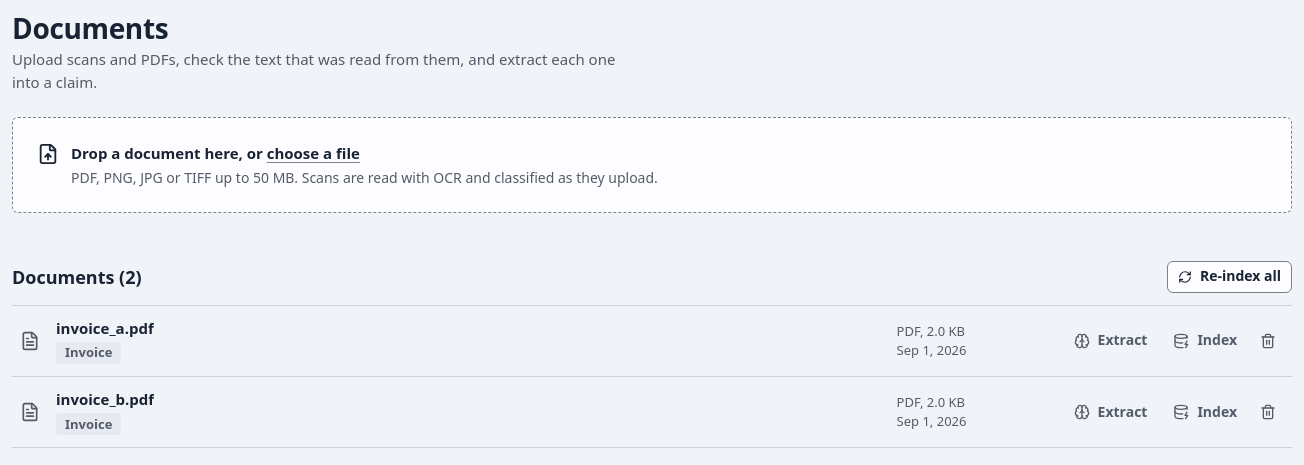
DocumentsPage › keeps a document removed once the delete succeeds
Click the button named "Delete invoice_a.pdf".
click(1268, 341)  # box [1252,325,1284,357]
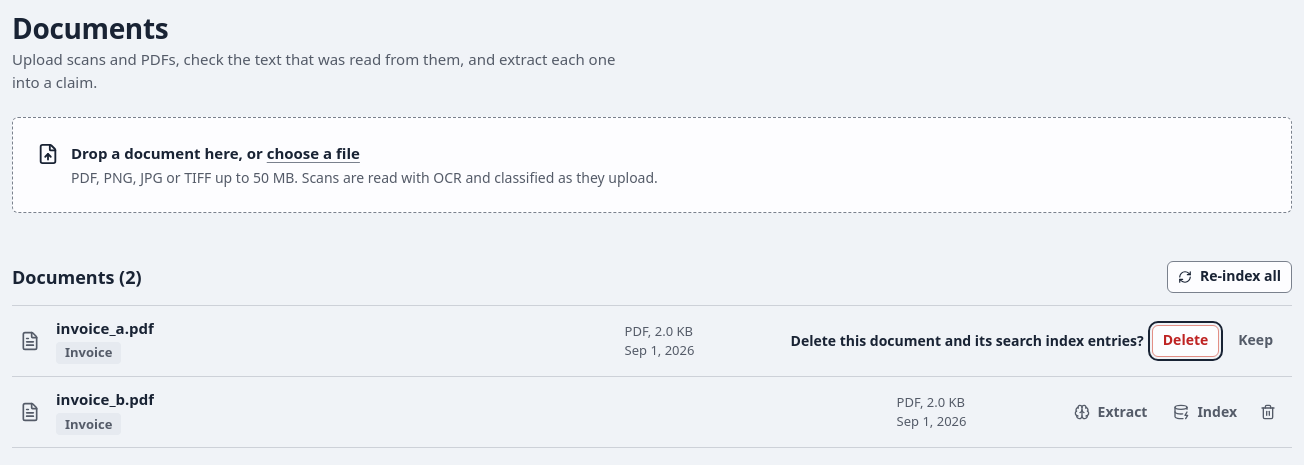
Click the button "Delete".
click(1186, 341)  # box [1152,325,1219,357]
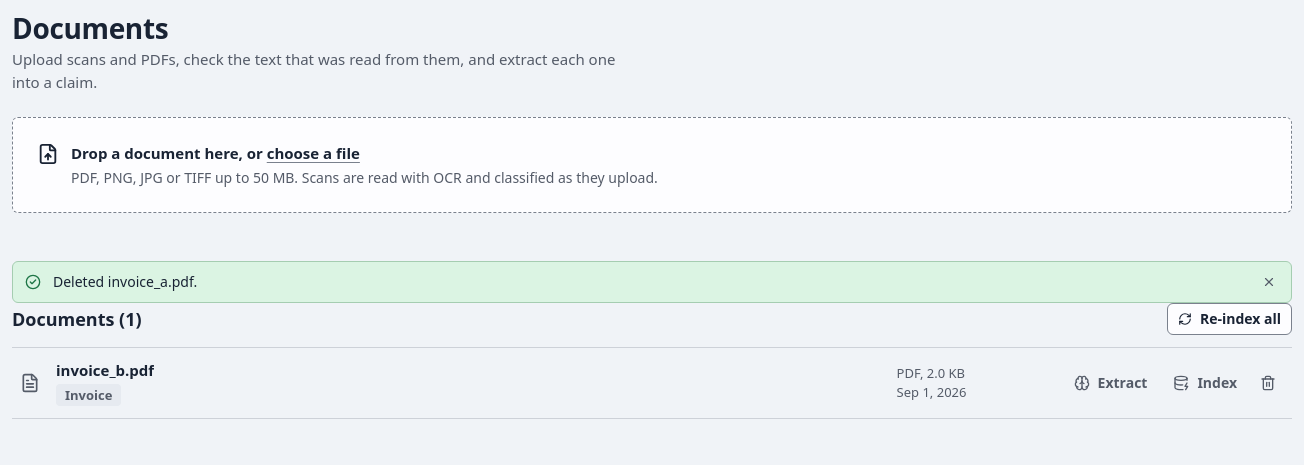
Expected: the text "Deleted invoice_a.pdf." is shown, [53,272,197,291]
